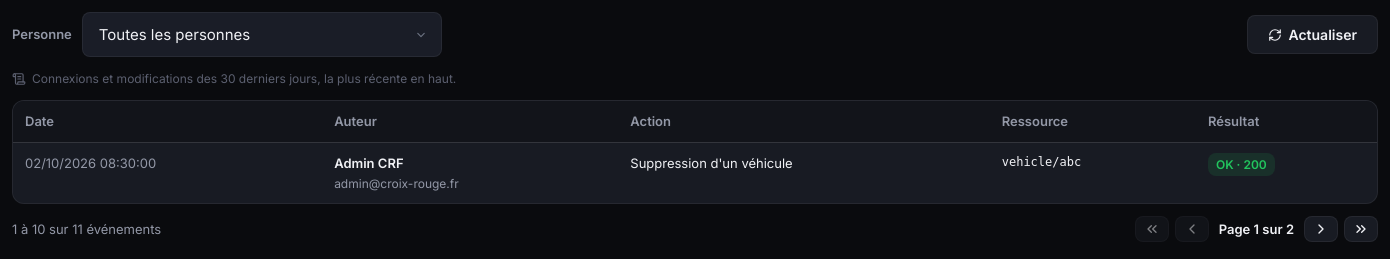
Test: AuditLogTab › navigue de page en page en figeant la liste (asOf) et en écrivant la page dans l’URL
The width and height of the screenshot is (1390, 259).
Expected: the text "Page 1 sur 2" is shown, x1=1215 y1=219 x2=1298 y2=239
Expected: the text "1 à 10 sur 11 événements" is shown, x1=12 y1=219 x2=161 y2=239
Click the button named "Page suivante". click: (1321, 229)
box: x1=1304 y1=216 x2=1338 y2=242
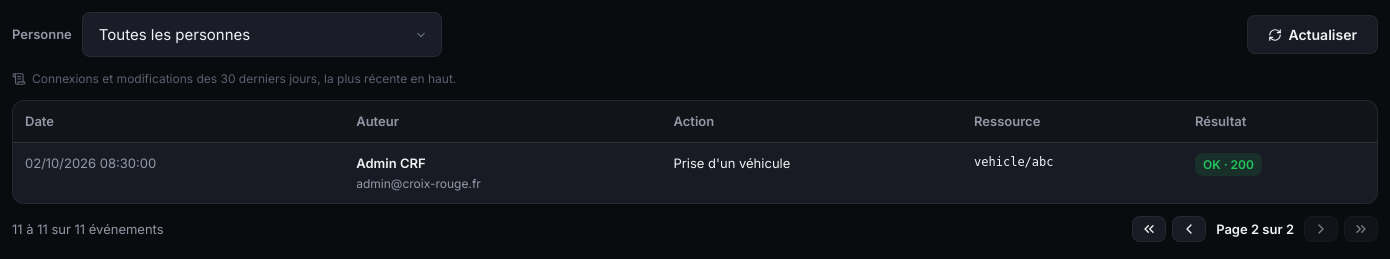
Expected: the text "Prise d'un véhicule" is shown, x1=662 y1=142 x2=962 y2=203
Expected: the text "Suppression d'un véhicule" is gone
Expected: the text "11 à 11 sur 11 événements" is shown, x1=12 y1=219 x2=164 y2=239
Click the button named "Page précédente". click: (1189, 229)
box: x1=1172 y1=216 x2=1206 y2=242
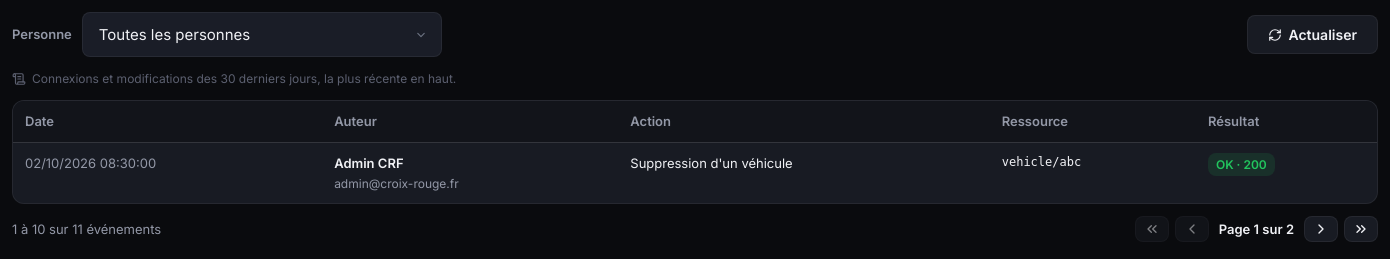
Expected: the text "Suppression d'un véhicule" is shown, x1=618 y1=142 x2=990 y2=203
